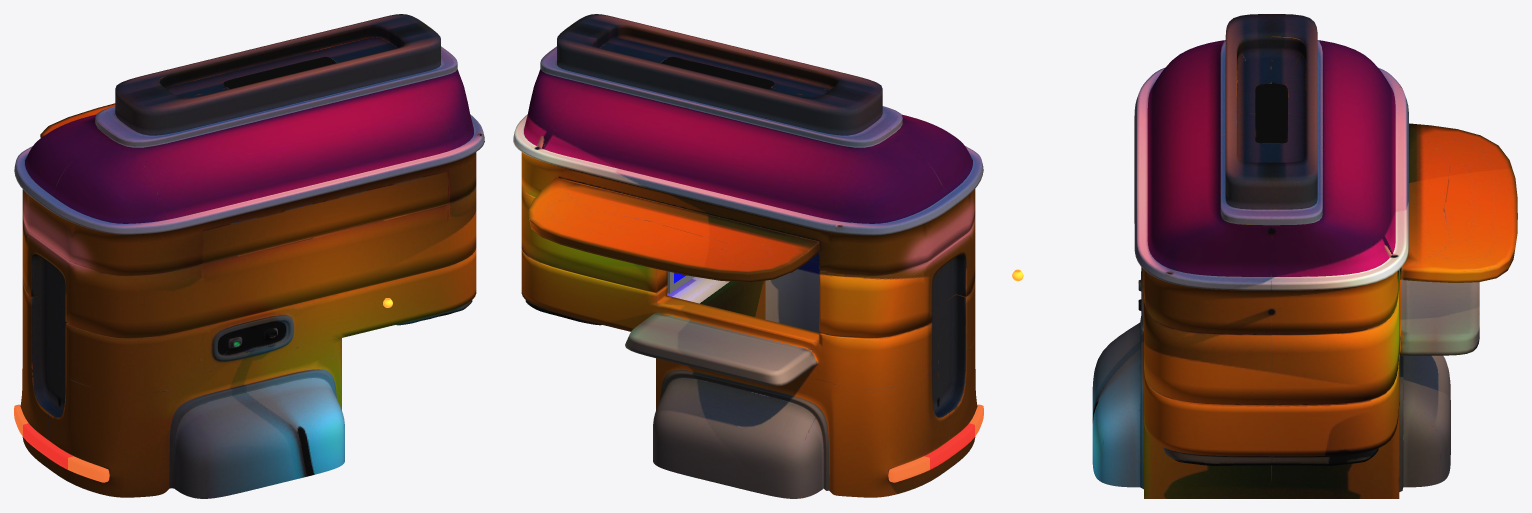
Rendered from cart.glb.
The picture shows the model from 3 angles, left to right: view 1: azimuth 30°, elevation 25°; view 2: azimuth 150°, elevation 25°; view 3: azimuth 270°, elevation 25°; orthographic projection. The views are drawn at different scales.
Parts seen in each view (by area): view 1: Cube003, Cube003_1, Cube003_2; view 2: Cube003, Cube003_1, Cube003_2; view 3: Cube003.
Part boxes in pixels (x1,y1,x2,y2): Cube003: (14,14,484,498); Cube003_1: (14,404,109,482); Cube003_2: (23,423,73,469); Cube003: (513,14,983,498); Cube003_1: (888,404,983,482); Cube003_2: (924,423,974,469); Cube003: (1092,14,1517,498).
Size of the model in its own units: 2.87 by 2.34 by 2.71.
Materials: 8 (1 with a texture image).
